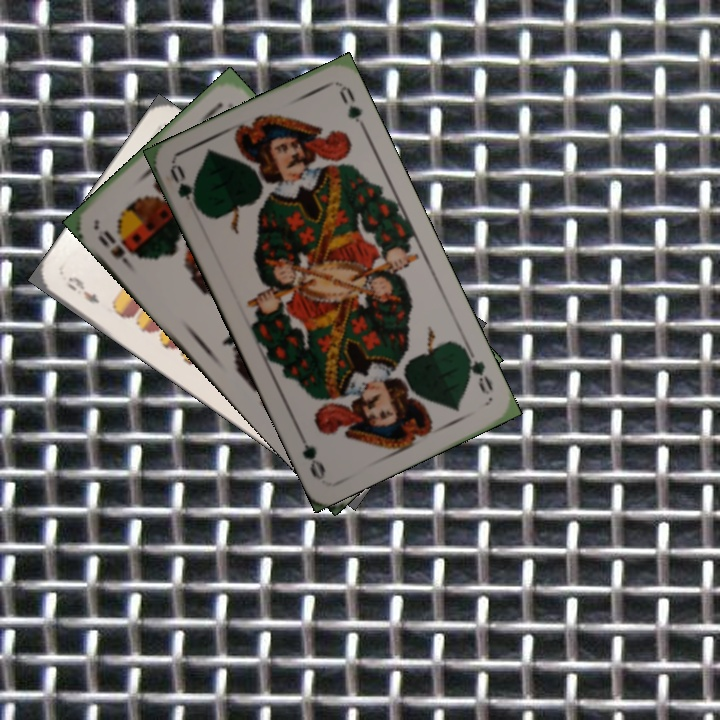E9: (63, 272, 102, 307)
GO: (166, 161, 205, 216), (461, 344, 496, 398)
SO: (94, 226, 136, 273)
